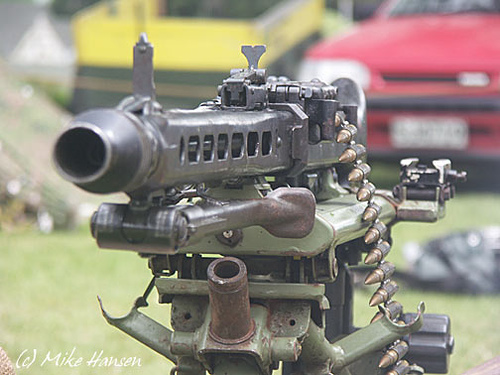rifle: (36, 67, 454, 354)
